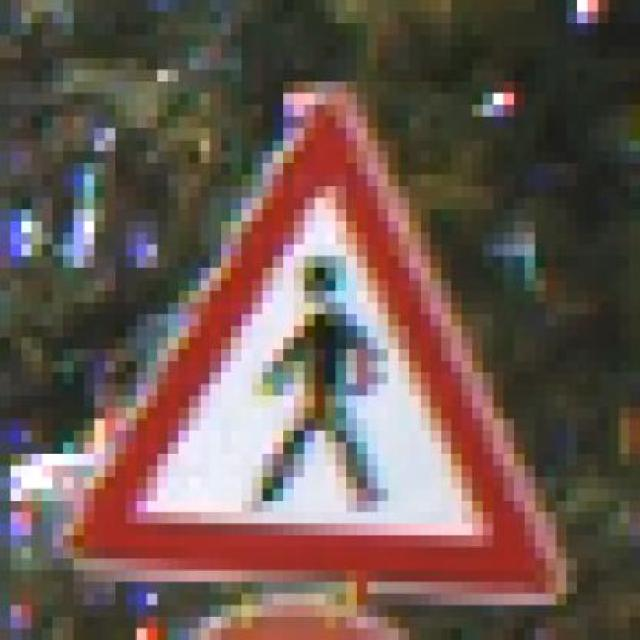Pedestrian Crossing: (63, 57, 588, 628)
